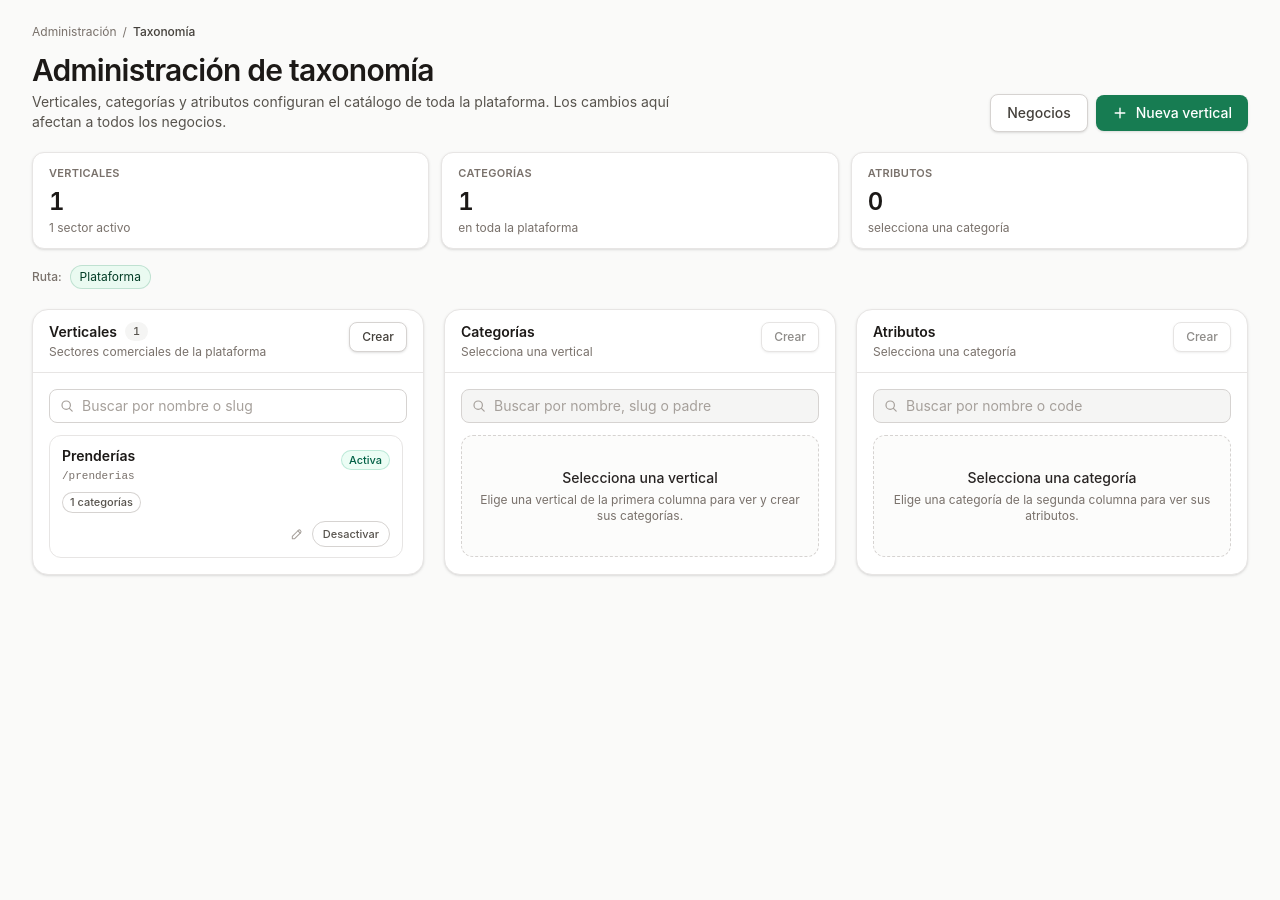
Test case: Panel de taxonomía (UI) › muestra el mensaje específico ante un conflicto 409
Check: the heading "Administración de taxonomía" is shown, box [32,52,434,88]
Check: the text "Prenderías" is shown, box [62,446,135,466]
Click the button "Nueva vertical" at (1172, 113), box [1096,95,1248,131]
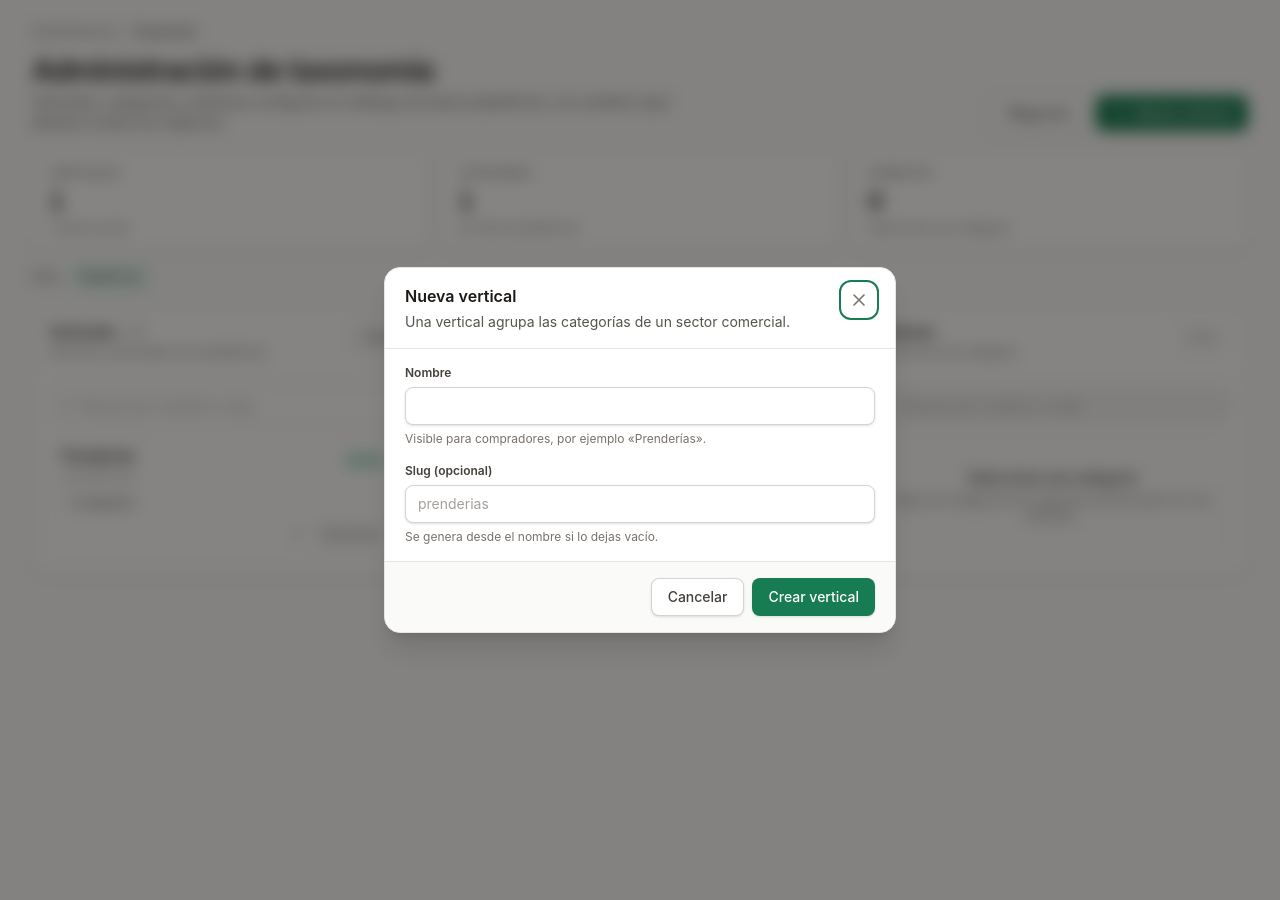
Type "Prenderías" into the field labelled "Nombre" at (640, 406), box [405,387,875,425]
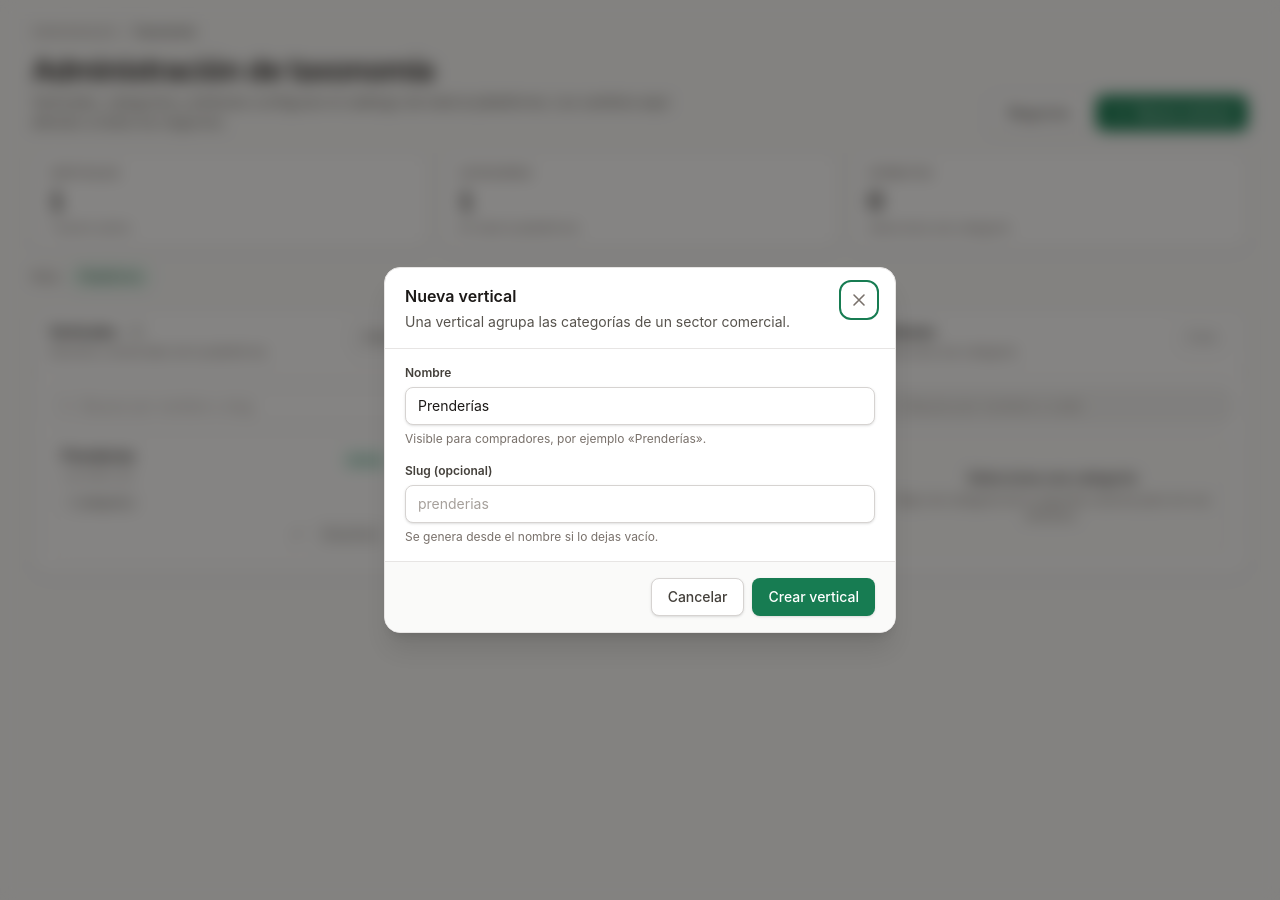
Click the button "Crear vertical" at (814, 597), box [752,578,875,616]
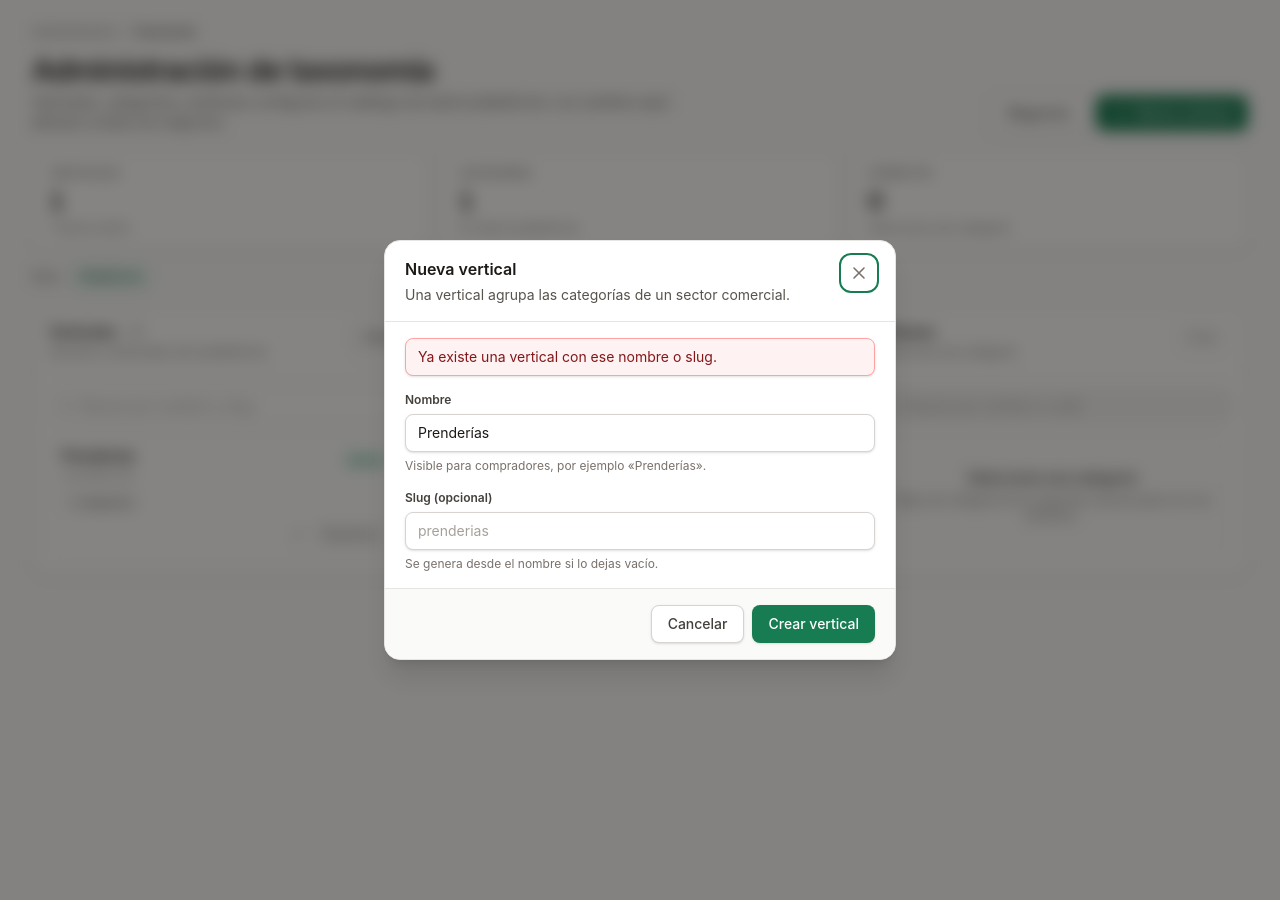
Check: the text "Ya existe una vertical con ese nombre o slug." is shown, box [418,347,717,367]
